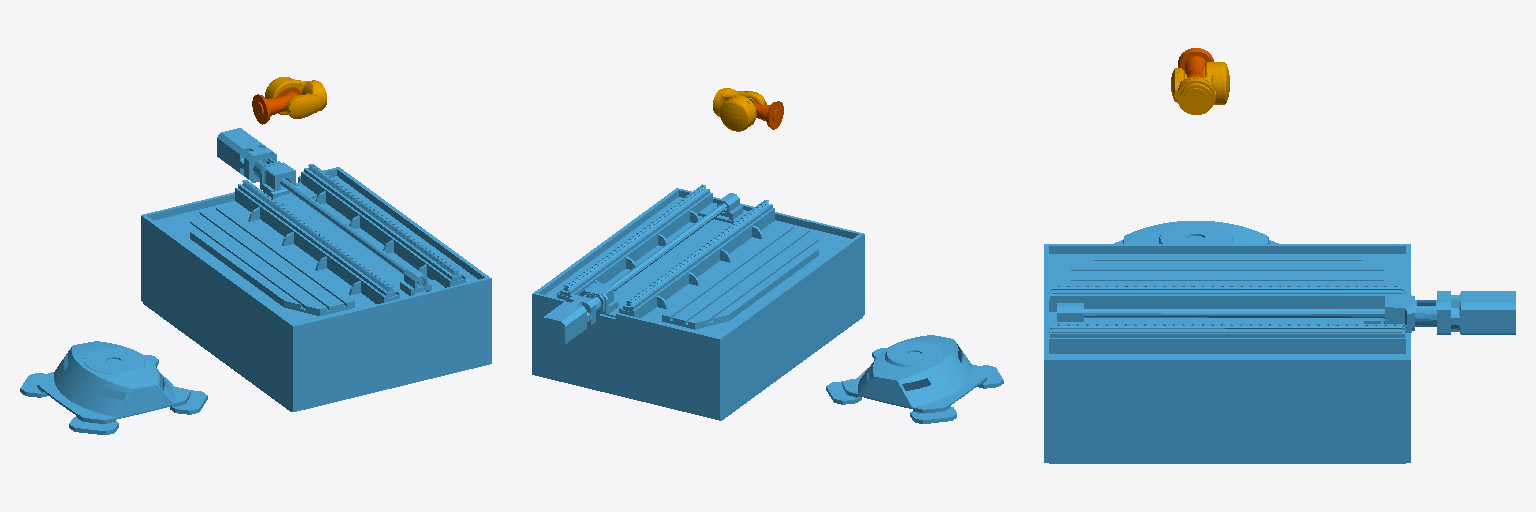
URDF robot description (robot_model):
<?xml version="1.0"?>
<!--
	the code in use.
	This is the description file of the milling robot.
-->
<robot name="robot_model">

	<link name="base_link">
		<visual>
			<origin xyz="0.000 0.000 0.000" rpy=" 0.0000 0.000 0.000" />
			<geometry>
				<cylinder length="0.01" radius="0.2" />
			</geometry>
		</visual>
	</link>

	<joint name="joint_0" type="fixed">
		<!-- <movement type="weld" rigidity = "flexible"/> -->
		<parent link="base_link" />
		<child link="link_0_x" />
		<origin rpy="0 0 0" xyz="0 0 0" />
		<!-- <T_Parent_Joint xyz = "0.0000 0.0000 0.0000" rpy = "0.0000 0.0000 0.0000"/>
		<T_Child_Joint xyz = "0.0000 0.0000 0.0000" rpy = "0.0000 0.0000 0.0000"/> -->
	</joint>


	<!-- =================================================================================== -->
	<!-- | Link 0 and joint 1 | -->
	<!-- =================================================================================== -->
	<link name="link_0_x">
		<visual name="mesh_0_x">
			<origin xyz="0.000 0.000 0.000" rpy=" 0.000 0.000 0.000" />
			<geometry>
				<mesh filename="package://robot_model/mesh/tisch-und-base1.obj" scale="1 1 1" />
			</geometry>
			<material name="l0_mtr">
				<texture filename="package://robot_model/mesh/texture/L0.png" />

			</material>
		</visual>
	</link>

	<joint name="joint_1_x" type="continuous">
		<!-- <movement type = "rotational" rigidity = "flexible"/> -->
		<parent link="link_0_x" />
		<child link="link_0_y" />
		<origin xyz="0.0000 0.0000 0.2500" rpy="0.0000 0.0000 0.0000" />
		<axis xyz="1 0 0" />
	</joint>

	<link name="link_0_y">
		<!-- <inertial>
			<mass value = "0.001" xyz = " 0.002646 0.018740 0.188026"/>
			<inertia ixx = "0.0001" ixy = "0.0001" ixz = "0.0001" iyy = "0.0001" iyz = "0.0001" izz = "0.0001"/>
		</inertial> -->

		<!-- dummy link does not need any attr. -->
		<!-- <visual name = "mesh_0_y">
			<origin xyz = "0.000 0.000 0.000" rpy = " 0.0000 0.000 0.000"/>
		</visual>  -->
		<visual>
			<origin xyz="0.000 0.000 0.000" rpy=" 0.0000 0.000 0.000" />
			<geometry>
				<cylinder length="0" radius="0" />
			</geometry>
		</visual>
	</link>

	<joint name="joint_1_y" type="continuous">
		<!-- <movement type = "rotational" rigidity = "flexible"/> -->
		<parent link="link_0_y" />
		<child link="link_0_z" />
		<origin xyz="0.0000 0.0000 0.0000" rpy="0.0000 0.0000 0.0000" />
		<axis xyz="0 1 0" />
	</joint>

	<link name="link_0_z">
		<!-- <inertial>
			<mass value = "0.001" xyz = " 0.002646 0.018740 0.188026"/>
			<inertia ixx = "0.0001" ixy = "0.0001" ixz = "0.0001" iyy = "0.0001" iyz = "0.0001" izz = "0.0001"/>
		</inertial> -->

		<!-- dummy link does not need any attr. -->
		<!-- <visual name = "mesh_0_z">
			<origin xyz = "0.000 0.000 0.000" rpy = " 0.0000 0.000 0.000"/>
		</visual>  -->
	</link>

	<joint name="joint_1_z" type="continuous">
		<!-- <movement type = "rotational" rigidity = "flexible"/> -->
		<parent link="link_0_z" />
		<child link="link_1_x" />
		<origin xyz="0.0000 0.0000 0.0000" rpy="0.0000 0.0000 0.0000" />
		<axis xyz="0 0 1" />
	</joint>

	<!-- =================================================================================== -->
	<!-- | Link 1 and joint 2 | -->
	<!-- =================================================================================== -->
	<link name="link_1_x">
		<inertial>
			<origin xyz = " 0.002646 0.018740 0.188026" />
			<mass value = "110.000"/>
			<inertia ixx = "3.236370867" ixy = "0.644464939" ixz = "0.468238095" iyy = "6.714710678" iyz = "0.257842574" izz = "5.649849463"/>
		</inertial>
		<visual name="mesh_1_x">
			<origin xyz="0.000 0.000 0.000" rpy=" 0.0000 0.000 0.000" />
			<geometry>
				<mesh filename="package://robot_model/mesh/L1.obj" scale="1 1 1" />

			</geometry>
			<material name="l1_mtr">
				<texture filename="package://robot_model/mesh/texture/L1.png" />

			</material>
		</visual>
	</link>

	<joint name="joint_2_x" type="continuous">
		<!-- <movement type = "rotational" rigidity = "flexible"/> -->
		<parent link="link_1_x" />
		<child link="link_1_y" />
		<origin xyz="0.3500 0.0000 0.4250" rpy="0.0000 -1.5708 1.5708" />
		<axis xyz="1 0 0" />
	</joint>

	<link name="link_1_y">
		<!-- <inertial>
			<mass value = "0.001" xyz = "0.427436 0.002950  0.236273"/>
			<inertia ixx = "0.0001" ixy = "0.0001" ixz = "0.0001" iyy = "0.0001" iyz = "0.0001" izz = "0.0001"/>
		</inertial> -->
		
		<!-- dummy link does not need any attr. -->
		<!-- <visual name = "mesh_1_y">
			<origin xyz = "0.000 0.000 0.000" rpy = " 0.0000 0.000 0.000"/>
		</visual>  -->
	</link>

	<joint name="joint_2_y" type="continuous">
		<!-- <movement type = "rotational" rigidity = "flexible"/> -->
		<parent link="link_1_y" />
		<child link="link_1_z" />
		<origin xyz="0.0000 0.0000 0.0000" rpy="0.0000 0.0000 0.0000" />
		<axis xyz="0 1 0" />
	</joint>

	<link name="link_1_z">
		<!-- <inertial>
			<mass value = "0.001" xyz = "0.427436 0.002950  0.236273"/>
			<inertia ixx = "0.0001" ixy = "0.0001" ixz = "0.0001" iyy = "0.0001" iyz = "0.0001" izz = "0.0001"/>
		</inertial> -->

		<!-- dummy link does not need any attr. -->
		<!-- <visual name = "mesh_1_z">
			<origin xyz = "0.000 0.000 0.000" rpy = " 0.0000 0.000 0.000"/>
		</visual>  -->
	</link>

	<joint name="joint_2_z" type="continuous">
		<!-- <movement type = "rotational" rigidity = "flexible"/> -->
		<parent link="link_1_z" />
		<child link="link_2_x" />
		<origin xyz="0.0000 0.0000 0.0000" rpy="0.0000 0.0000 0.0000" />
		<axis xyz="0 0 1" />
	</joint>

	<!-- =================================================================================== -->
	<!-- | Link 2 and joint 3 | -->
	<!-- =================================================================================== -->


	<link name="link_2_x">
		<inertial>
			<origin xyz=" 0.427436 0.002950  0.236273" />
			<mass value="239.748" />
			<inertia ixx="4.30639745" ixy="0.165463221" ixz="4.341148242" iyy="40.01608253" iyz="0.022575289" izz="39.50583604" />
		</inertial>

		<visual name="mesh_2_x">
			<origin xyz="0.000 0.000 0.000" rpy=" 0.0000 0.000 0.000" />
			<geometry>
				<!-- <mesh filename = "L2.obj" scale = "1.0"/> -->
				<mesh filename="package://robot_model/mesh/L2.obj" />
			</geometry>
			<material name="l2_mtr">
				<texture filename="package://robot_model/mesh/texture/L2.png" />

			</material>
		</visual>
	</link>

	<joint name="joint_3_x" type="continuous">
		<!-- <movement type = "rotational" rigidity = "flexible"/> -->
		<parent link="link_2_x" />
		<child link="link_2_y" />
		<origin xyz="1.1500 0.0000 0.0000" rpy="0.0000 0.0000 -3.14159" />
		<axis xyz="1 0 0" />
	</joint>

	<link name="link_2_y">

		<!-- <inertial>
			<mass value = "0.001" xyz = "0.023521 0.157165  0.000000"/>
			<inertia ixx = "0.0001" ixy = "0.0001" ixz = "0.0001" iyy = "0.0001" iyz = "0.0001" izz = "0.0001"/>
		</inertial> -->

		<!-- dummy link does not need any attr. -->
		<!-- <visual name = "mesh_2_y">
			<origin xyz = "0.000 0.000 0.000" rpy = " 0.0000 0.000 0.000"/>
		</visual>  -->
	</link>

	<joint name="joint_3_y" type="continuous">
		<!-- <movement type = "rotational" rigidity = "flexible"/> -->
		<parent link="link_2_y" />
		<child link="link_2_z" />
		<origin xyz="0.0000 0.0000 0.0000" rpy="0.0000 0.0000 0.0000" />
		<axis xyz="0 1 0" />
	</joint>

	<link name="link_2_z">
		<!-- <inertial>
			<mass value = "0.001" xyz = "0.023521 0.157165  0.000000"/>
			<inertia ixx = "0.0001" ixy = "0.0001" ixz = "0.0001" iyy = "0.0001" iyz = "0.0001" izz = "0.0001"/>
		</inertial> -->

		<!-- dummy link does not need any attr. -->
		<!-- <visual name = "mesh_2_z">
			<origin xyz = "0.000 0.000 0.000" rpy = " 0.0000 0.000 0.000"/>
		</visual>  -->
	</link>

	<joint name="joint_3_z" type="continuous">
		<!-- <movement type = "rotational" rigidity = "flexible"/> -->
		<parent link="link_2_z" />
		<child link="link_3_x" />
		<origin xyz="0.0000 0.0000 0.0000" rpy="0.0000 0.0000 0.0000" />
		<axis xyz="0 0 1" />
	</joint>

	<!-- =================================================================================== -->
	<!-- | Link 3 and joint 4 | -->
	<!-- =================================================================================== -->

	<link name="link_3_x">
		<inertial>
			<origin xyz=" 0.023521 0.157165  0.000000"/>
			<mass value="164.006"  />
			<inertia ixx="16.43037097" ixy="0.336896677" ixz="0.018073572" iyy="2.381578838" iyz="0.191901642" izz="16.17115993" />
		</inertial>

		<visual name="mesh_3_z">
			<origin xyz="0.000 0.000 0.000" rpy=" 0.0000 0.000 0.000" />
			<geometry>
				<!-- <mesh filename = "L3.obj" scale = "1.0"/> -->
				<mesh filename="package://robot_model/mesh/L3.obj" />
			</geometry>
			<material name="l3_mtr">
				<texture filename="package://robot_model/mesh/texture/L3.png" />

			</material>
		</visual>
	</link>

	<joint name="joint_4_x" type="continuous">
		<!-- <movement type = "rotational" rigidity = "flexible"/> -->
		<parent link="link_3_x" />
		<child link="link_3_y" />
		<origin xyz="0.0410 0.7545 0.0000" rpy="-1.5708 0.0000 0.0000" />
		<axis xyz="1 0 0" />
	</joint>

	<link name="link_3_y">
		<!-- <inertial>
			<mass value = "0.001" xyz = "0.000000 0.001354 0.223432"/>
			<inertia ixx = "0.0001" ixy = "0.0001" ixz = "0.0001" iyy = "0.0001" iyz = "0.0001" izz = "0.0001"/>
		</inertial> -->
		
		<!-- dummy link does not need any attr. -->
		<!-- <visual name = "mesh_3_y">
			<origin xyz = "0.000 0.000 0.000" rpy = " 0.0000 0.000 0.000"/>
		</visual>  -->
	</link>

	<joint name="joint_4_y" type="continuous">
		<!-- <movement type = "rotational" rigidity = "flexible"/> -->
		<parent link="link_3_y" />
		<child link="link_3_z" />
		<origin xyz="0.0000 0.0000 0.0000" rpy="0.0000 0.0000 0.0000" />
		<axis xyz="0 1 0" />
	</joint>

	<link name="link_3_z">
		<!-- <inertial>
			<mass value = "0.001" xyz = "0.000000 0.001354 0.223432"/>
			<inertia ixx = "0.0001" ixy = "0.0001" ixz = "0.0001" iyy = "0.0001" iyz = "0.0001" izz = "0.0001"/>
		</inertial> -->

		<!-- dummy link does not need any attr. -->
		<!-- <visual name = "mesh_3_z">
			<origin xyz = "0.000 0.000 0.000" rpy = " 0.0000 0.000 0.000"/>
		</visual>  -->
	</link>

	<joint name="joint_4_z" type="continuous">
		<!-- <movement type = "rotational" rigidity = "flexible"/> -->
		<parent link="link_3_z" />
		<child link="link_4_x" />
		<origin xyz="0.0000 0.0000 0.0000" rpy="0.0000 0.0000 0.0000" />
		<axis xyz="0 0 1" />
	</joint>

	<!-- =================================================================================== -->
	<!-- | Link 4 and joint 5 | -->
	<!-- =================================================================================== -->
	<link name="link_4_x">
		<inertial>
			<origin xyz=" 0.000000 0.001354 0.223432" />
			<mass value="39.746" />
			<inertia ixx="0.419700279" ixy="0" ixz="0" iyy="0.425200882" iyz="0.009137089" izz="0.097243405" />
		</inertial>

		<visual name="mesh_4_x">
			<origin xyz="0.000 0.000 0.000" rpy=" 0.0000 0.000 0.000" />
			<geometry>
				<!-- <mesh filename = "L4.obj" scale = "1.0"/> -->
				<mesh filename="package://robot_model/mesh/L4.obj" />
			</geometry>
			<material name="l4_mtr">
				<texture filename="package://robot_model/mesh/texture/L4.png" />

			</material>
		</visual>
	</link>

	<joint name="joint_5_x" type="continuous">
		<!-- <movement type = "rotational" rigidity = "flexible"/> -->
		<parent link="link_4_x" />
		<child link="link_4_y" />
		<origin xyz="0.0000 0.0000 0.245500" rpy="1.5708 0.0000 0.0000" />
		<axis xyz="1 0 0" />
	</joint>

	<link name="link_4_y">
		<!-- <inertial>
			<mass value = "0.001" xyz = "0.000000 0.054123 -0.037621"/>
			<inertia ixx = "0.0001" ixy = "0.0001" ixz = "0.0001" iyy = "0.0001" iyz = "0.0001" izz = "0.0001"/>
		</inertial> -->
		
		<!-- dummy link does not need any attr. -->
		<!-- <visual name = "mesh_4_y">
			<origin xyz = "0.000 0.000 0.000" rpy = " 0.0000 0.000 0.000"/>
		</visual>  -->
	</link>

	<joint name="joint_5_y" type="continuous">
		<!-- <movement type = "rotational" rigidity = "flexible"/> -->
		<parent link="link_4_y" />
		<child link="link_4_z" />
		<origin xyz="0.0000 0.0000 0.0000" rpy="0.0000 0.0000 0.0000" />
		<axis xyz="0 1 0" />
	</joint>

	<link name="link_4_z">
		<!-- <inertial>
			<mass value = "0.001" xyz = "0.000000 0.054123 -0.037621"/>
			<inertia ixx = "0.0001" ixy = "0.0001" ixz = "0.0001" iyy = "0.0001" iyz = "0.0001" izz = "0.0001"/>
		</inertial> -->
		
		<!-- dummy link does not need any attr. -->
		<!-- <visual name = "mesh_4_z">
			<origin xyz = "0.000 0.000 0.000" rpy = " 0.0000 0.000 0.000"/>
		</visual>  -->
	</link>

	<joint name="joint_5_z" type="continuous">
		<!-- <movement type = "rotational" rigidity = "flexible"/> -->
		<parent link="link_4_z" />
		<child link="link_5_x" />
		<origin xyz="0.0000 0.0000 0.0000" rpy="0.0000 0.0000 0.0000" />
		<axis xyz="0 0 1" />
	</joint>

	<!-- =================================================================================== -->
	<!-- | Link 5 and joint 6 | -->
	<!-- =================================================================================== -->

	<link name="link_5_x">
		<inertial>
			<origin xyz=" 0.000000 0.054123 -0.037621"/>
			<mass value=" 28.510"  />
			<inertia ixx="0.436341228" ixy="0.000008171" ixz="0.000000068" iyy="0.296286531" iyz="0.06785905" izz="0.294686677" />
		</inertial>

		<visual name="mesh_5_x">
			<origin xyz="0.000 0.000 0.000" rpy=" 0.0000 0.000 0.000" />
			<geometry>
				<!-- <mesh filename = "L5.obj" scale = "1.0"/> -->
				<mesh filename="package://robot_model/mesh/L5.obj" />
			</geometry>
			<material name="l5_mtr">
				<texture filename="package://robot_model/mesh/texture/L5.png" />

			</material>
		</visual>
	</link>

	<joint name="joint_6_x" type="continuous">
		<!-- <movement type = "rotational" rigidity = "flexible"/> -->
		<parent link="link_5_x" />
		<child link="link_5_y" />
		<origin xyz="0.0000 0.2400 0.0000" rpy="-1.5708 0.0000 0.0000" />
		<axis xyz="1 0 0" />
	</joint>

	<link name="link_5_y">
		<!-- <inertial>
			<mass value = "0.001" xyz = "-0.065895 0.000000  0.122766"/>
			<inertia ixx = "0.0001" ixy = "0.0001" ixz = "0.0001" iyy = "0.0001" iyz = "0.0001" izz = "0.0001"/>
		</inertial> -->
		
		<!-- dummy link does not need any attr. -->
		<!-- <visual name = "mesh_5_y">
			<origin xyz = "0.000 0.000 0.000" rpy = " 0.0000 0.000 0.000"/>
		</visual>  -->
	</link>

	<joint name="joint_6_y" type="continuous">
		<!-- <movement type = "rotational" rigidity = "flexible"/> -->
		<parent link="link_5_y" />
		<child link="link_5_z" />
		<origin xyz="0.0000 0.0000 0.0000" rpy="0.0000 0.0000 0.0000" />
		<axis xyz="0 1 0" />
	</joint>

	<link name="link_5_z">
		<!-- <inertial>
			<mass value = "0.001" xyz = "-0.065895 0.000000  0.122766"/>
			<inertia ixx = "0.0001" ixy = "0.0001" ixz = "0.0001" iyy = "0.0001" iyz = "0.0001" izz = "0.0001"/>
		</inertial> -->
		
		<!-- dummy link does not need any attr. -->
		<!-- <visual name = "mesh_5_z">
			<origin xyz = "0.000 0.000 0.000" rpy = " 0.0000 0.000 0.000"/>
		</visual>  -->
	</link>

	<joint name="joint_6_z" type="continuous">
		<!-- <movement type = "rotational" rigidity = "flexible"/> -->
		<parent link="link_5_z" />
		<child link="link_6_x" />
		<origin xyz="0.0000 0.0000 0.0000" rpy="0.0000 0.0000 0.0000" />
		<axis xyz="0 0 1" />
	</joint>

	<!-- =================================================================================== -->
	<!-- | Link 6 | -->
	<!-- =================================================================================== -->

	<link name="link_6_x">
		<inertial>
			<origin xyz="-0.065895 0.000000  0.122766"/>
			<mass value=" 78.622" />
			<inertia ixx="0.766497" ixy="0" ixz="0.01855" iyy="1.401573" iyz="0" izz="1.295152" />
		</inertial>

		<visual name="mesh_6">
			<origin xyz="0.000 0.000 0.000" rpy=" 0.0000 0.000 0.000" />
			<geometry>
				<!-- <mesh filename = "L6Spindle.obj" scale = "1.0"/> -->
				<mesh filename="package://robot_model/mesh/L6Spindle.obj" />
			</geometry>
			<material name="l6_mtr">
				<texture filename="package://robot_model/mesh/texture/L6Spindle.png" />
			</material>
		</visual>
	</link>


	<!-- <cosy name = "TCP">
		<parent link="link_6"/>
		<T_parent_cosy xyz = "0.1705 0.0000 0.1165" rpy = "0.0000 -1.5708 0.0000"/>
	</cosy> -->

</robot>
<!-- =================================================================================== -->
<!-- | original file backup | -->
<!-- =================================================================================== -->
<!-- | "joint1" backup, now it is joint 0 | -->
<!-- <joint name = "joint_1" type = "continuous">
		<movement type = "rotational" rigidity = "flexible"/>
		<parent link="link_0"/>
		<child link="link_1"/>
		<origin xyz = "0.0000 0.0000 0.2500" rpy = "0.0000 0.0000 0.0000"/>
		
		<T_parent_joint xyz = "0.0000 0.0000 0.2500" rpy = "0.0000 0.0000 0.0000"/>
		<T_child_joint xyz = "0.0000 0.0000 0.0000" rpy = "0.0000 0.0000 0.0000"/>
		<position min = "-3.2289" max = "3.2289" offset = "0.0" home = "0.0"/>
		<veclocity min = "-1.8326" max = "1.8326"/>
		<acceleration min = "-4.3633" max = "4.3633"/>
		<jerk max = "189.338"/>
		<gear numerator = "-1798" denominator = "7" backlash = "0.0017"/>
		<motor max = "55.0" inertia = "874.1766" nu = "0.89"/>
		<torque max = "[phone redacted]"/>
		<stiffness xyz = "inf inf inf" rpy = "12395720.9971118 13033731.2965956 7446570.85412168 "/> 
		<dampingOld xyz = "15020 15020 15020" rpy = "15020 15020 15020"/>
		
		
		<backlashOld value = "0.0017"/>
		<backlash value = "0.00003"/>
		
		<dynamics>
			<friction value = "1.2"/>
			<damping xyz = "[phone redacted]" rpy = "[phone redacted]"/>
		</dynamics>
	</joint> -->

<!-- <joint name = "joint_2" type = "continuous">
		<movement type = "rotational" rigidity = "flexible"/>
		<parent link="link_1"/>
		<child link="link_2"/>
		<origin xyz = "0.3500 0.0000 0.4250" rpy = "0.0000 -1.5708 1.5708"/>
		<T_parent_joint xyz = "0.3500 0.0000 0.4250" rpy = "0.0000 -1.5708 1.5708"/>
		<T_child_joint xyz = "0.0000 0.0000 0.0000" rpy = "0.0000 0.0000 0.0000"/>
		<position min =  "0.0873" max = "2.4435" offset = "1.5708" home = "-1.5708"/>
		<veclocity min = "-1.8675" max = "1.8675"/>
		<acceleration min = "-4.3633" max = "4.3633"/>
		<jerk max = "155.671"/>
		<gear numerator = "-2782" denominator = "11" backlash = "0.0026"/>
		<motor max = "55.0" inertia = "658.1154" nu = "0.89"/>
		<torque max = "[phone redacted]"/>
		<stiffness xyz = "inf inf inf" rpy = "38157744.1141680 6593696.42621654 5062265.87020350"/> 
		<dampingOld xyz = "15020 15020 15020" rpy = "15020 15020 15020"/>
		
		
		<backlashOld value = "0.0016"/>
		<backlash value = "0.00003"/>

		<dynamics>
			<friction value= "1.2"/>
			<damping xyz = "[phone redacted]" rpy = "[phone redacted]"/>
		</dynamics>
	</joint> -->

<!-- <joint name = "joint_3" type = "continuous">
		<movement type = "rotational" rigidity = "flexible"/>
		<parent link="link_2"/>
		<child link="link_3"/>
		<origin xyz = "1.1500 0.0000 0.0000" rpy = "0.0000 0.0000 -3.14159"/>
		<T_parent_joint xyz = "1.1500 0.0000 0.0000" rpy = "0.0000 0.0000 -3.14159"/>
		<T_child_joint xyz = "0.0000 0.0000 0.0000" rpy = "0.0000 0.0000 0.0000"/>
		<position min = "-2.7052" max = "2.0944" offset = "-1.5708" home = "1.5708"/>
		<veclocity min = "-1.9897" max = "1.9897"/>
		<acceleration min = "-4.3633" max = "4.3633"/>
		<jerk max = "194.329"/>
		<gear numerator = "-4491" denominator = "19" backlash = "0.0017"/>
		<motor max = "55.0" inertia = "559.9853" nu = "0.89"/>
		<torque max = "[phone redacted]"/>
		<stiffness xyz = "inf inf inf" rpy = "2552843.86806903 2256419.51351595 3807203.22850834"/> 
		<dampingOld xyz = "15020 15020 15020" rpy = "15020 15020 15020"/>
		
		
		<backlashOld value = "0.0017"/>
		<backlash value = "0.00003"/>

		<dynamics>
			<friction value= "1.2"/>
			<damping xyz = "[phone redacted]" rpy = "[phone redacted]"/>
		</dynamics>
	</joint> -->

<!-- <joint name = "joint_4" type = "continuous">
		<movement type = "rotational" rigidity = "flexible"/>
		<parent link="link_3"/>
		<child link="link_4"/>
		<origin xyz = "0.0410 0.7545 0.0000" rpy = "-1.5708 0.0000 0.0000"/>
		
		<T_parent_joint xyz = "0.0410 0.7545 0.0000" rpy = "-1.5708 0.0000 0.0000"/>
		<T_child_joint xyz = "0.0000 0.0000 0.0000" rpy = "0.0000 0.0000 0.0000"/>
		<position min = "-6.1086" max = "6.1086" offset = "0.0" home = "0.0"/>
		<veclocity min = "-2.3736" max = "2.3736"/>
		<acceleration min = "-4.3633" max = "4.3633"/>
		<jerk max = "319.747"/>
		<gear numerator = "-1989" denominator = "10" backlash = "0.0028"/>
		<motor max = "18.0" inertia = "93.73926" nu = "0.89"/>
		<torque max =  "4923.5498"/>
		<stiffness xyz = "inf inf inf" rpy = "3390060.34307411 2584112.87405034 3966207.90861857"/> 
		<dampingOld xyz = "[phone redacted]" rpy = "[phone redacted]"/>
		
		
		<backlashOld value = "0.001"/>
		<backlash value = "0.0000175"/>

		<dynamics>
			<friction value= "1.2"/>
			<damping xyz = "[phone redacted]" rpy = "[phone redacted]"/>
		</dynamics>
	</joint> -->

<!-- <joint name = "joint_5" type = "continuous">
		<movement type = "rotational" rigidity = "flexible"/>
		<parent link="link_4"/>
		<child link="link_5"/>
		<origin xyz = "0.0000 0.0000 0.245500" rpy = "1.5708 0.0000 0.0000"/>
		<T_parent_joint xyz = "0.0000 0.0000 0.245500" rpy = "1.5708 0.0000 0.0000"/>
		<T_child_joint xyz = "0.0000 0.0000 0.0000" rpy = "0.0000 0.0000 0.0000"/>
		<position min = "-2.1380" max = "2.1380" offset = "0.0" home = "0.0"/>
		<veclocity min = "-2.2515" max = "2.2515"/>
		<acceleration min = "-4.3633" max = "4.3633"/>
		<jerk max = "303.320"/>
		<gear numerator = "-629" denominator = "3" backlash = "0.0024"/>
		<motor max = "18.0" inertia = "113.7964" nu = "0.89"/>
		<torque max =  "4923.5498"/>
		<stiffness xyz = "inf inf inf" rpy = "1732952.08387488 1733613.02290103 1316291.74290190"/> 
		<dampingOld xyz = "[phone redacted]" rpy = "[phone redacted]"/>
		
		
		<backlashOld value = "0.001"/>
		<backlash value = "0.0000175"/>

		<dynamics>
			<friction value= "1.2"/>
			<damping xyz = "[phone redacted]" rpy = "[phone redacted]"/>
		</dynamics>
	</joint> -->

<!-- <joint name = "joint_6" type = "continuous">
		<movement type = "rotational" rigidity = "flexible"/>
		<parent link="link_5"/>
		<child link="link_6"/>
		<origin xyz = "0.0000 0.2400 0.0000" rpy = "-1.5708 0.0000 0.0000"/>
		<T_parent_joint xyz = "0.0000 0.2400 0.0000" rpy = "-1.5708 0.0000 0.0000"/>
		<T_child_joint xyz = "0.0000 0.0000 0.0000" rpy = "0.0000 0.0000 0.0000"/>
		<position min = "-6.1086" max = "6.1086" offset = "0.0" home = "0.0"/>
		<veclocity min = "-3.5954" max = "3.5954"/>
		<acceleration min = "-4.3633" max = "4.3633"/>
		<jerk max = "315.185"/>
		<gear numerator = "-175743" denominator = "1340" backlash = "0.0017"/>
		<motor max = "18.0" inertia = "45.11652" nu = "0.89"/>
		<torque max =  "2881.5835"/>
		<stiffness xyz = "inf inf inf" rpy = "568504.832291074 1588537.11616972 636861.546299834"/> 
		<dampingOld xyz = "[phone redacted]" rpy = "[phone redacted]"/>
		
		<backlashOld value = "0.0005"/>
		<backlash value = "0.00000873"/>

		<dynamics>
			<friction value= "1.2"/>
			<damping xyz = "[phone redacted]" rpy = "[phone redacted]"/>
		</dynamics>
	</joint> -->

--- What the picture shows (computed from the rendered views, not written in the file) ---
The picture shows the robot from 3 angles, left to right: view 1: azimuth 30°, elevation 25°; view 2: azimuth 150°, elevation 25°; view 3: azimuth 270°, elevation 25°; orthographic projection.
Model robot_model with 20 links and 19 joints (18 continuous, 1 fixed), rooted at base_link, posed every joint at zero.
Visible links, largest first — view 1: link_0_x, link_5_x, link_4_x; view 2: link_0_x, link_5_x, link_4_x; view 3: link_0_x, link_5_x, link_4_x.
Boxes of the visible links, x1,y1,x2,y2 form: link_0_x: (20,128,491,434); link_5_x: (265,77,326,118); link_4_x: (252,86,301,124); link_0_x: (532,184,1003,423); link_5_x: (713,88,766,131); link_4_x: (751,101,783,129); link_0_x: (1044,221,1515,463); link_5_x: (1171,62,1229,114); link_4_x: (1178,48,1213,77).
Bounding box of the posed robot: 2.88 × 2.57 × 1.93 m (x, y, z).
3 mesh visuals loaded from 7 distinct referenced files (3 OBJ); not drawn: 4 (reference not matched to a file when rendering).
